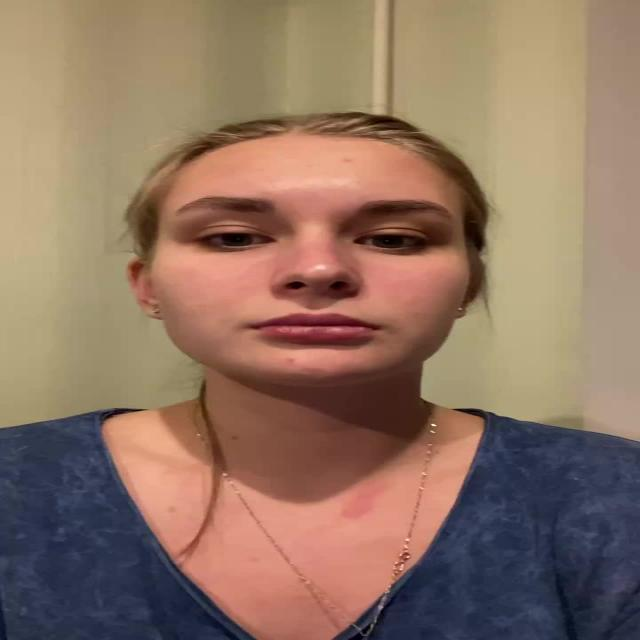earlobe: (138, 299, 165, 321), (453, 298, 470, 320)
eye: (350, 231, 431, 250), (193, 230, 276, 248)
nose: (270, 274, 364, 308)
wholeear: (128, 259, 164, 320)
